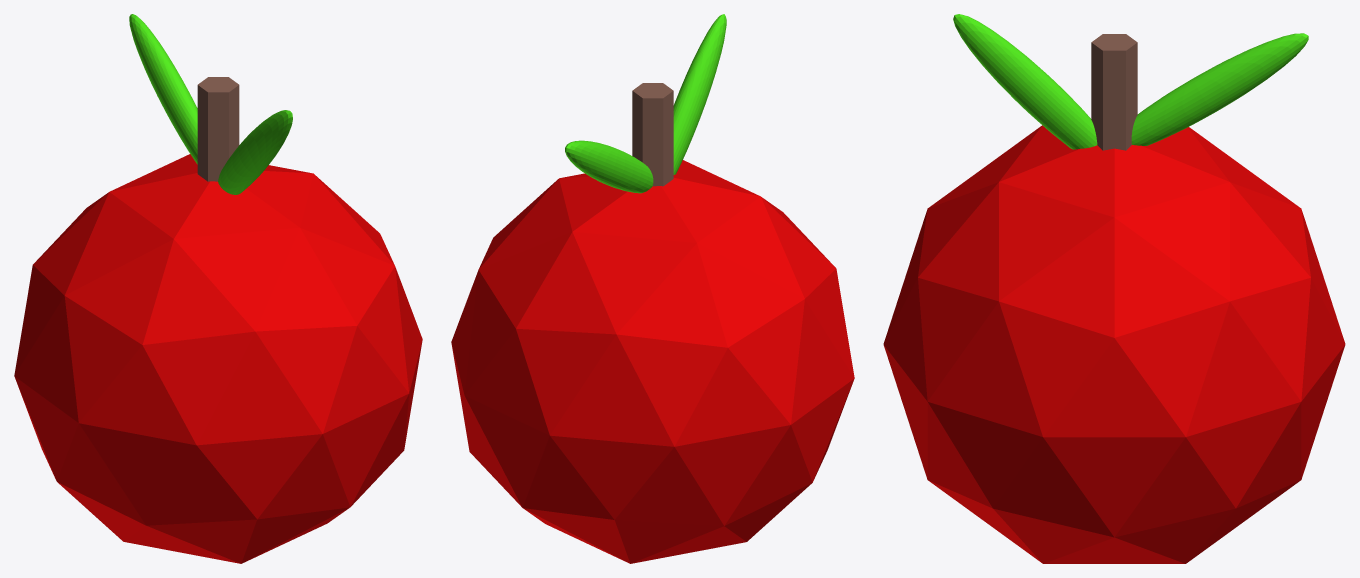
File: apple.fbx
3 views of the same model, side by side, from view 1: azimuth 30°, elevation 25°; view 2: azimuth 150°, elevation 25°; view 3: azimuth 270°, elevation 25° (orthographic). The views are drawn at different scales.
Visible parts, largest first — view 1: Icosphere, Sphere.001, Cylinder; view 2: Icosphere, Sphere.001, Cylinder; view 3: Icosphere, Sphere.001, Cylinder.
Boxes of the visible parts, box(x1,y1,x2,y2) form: Icosphere: box(14, 154, 422, 563); Sphere.001: box(129, 14, 292, 194); Cylinder: box(197, 77, 239, 181); Icosphere: box(451, 160, 854, 563); Sphere.001: box(565, 14, 726, 193); Cylinder: box(632, 83, 673, 186); Icosphere: box(883, 125, 1345, 563); Sphere.001: box(953, 14, 1308, 149); Cylinder: box(1091, 34, 1137, 150).
Bounding box in the file's own units: 190 × 258 × 200.
